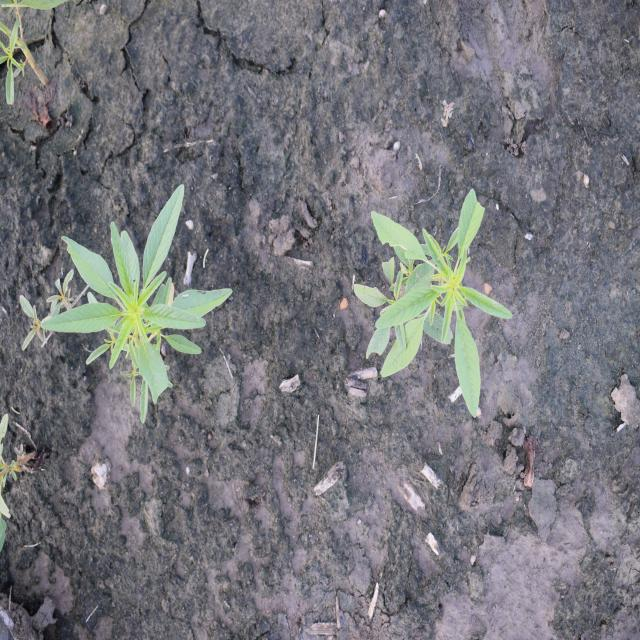Waterhemp: (40, 182, 235, 425), (352, 185, 514, 421), (16, 268, 76, 350)
